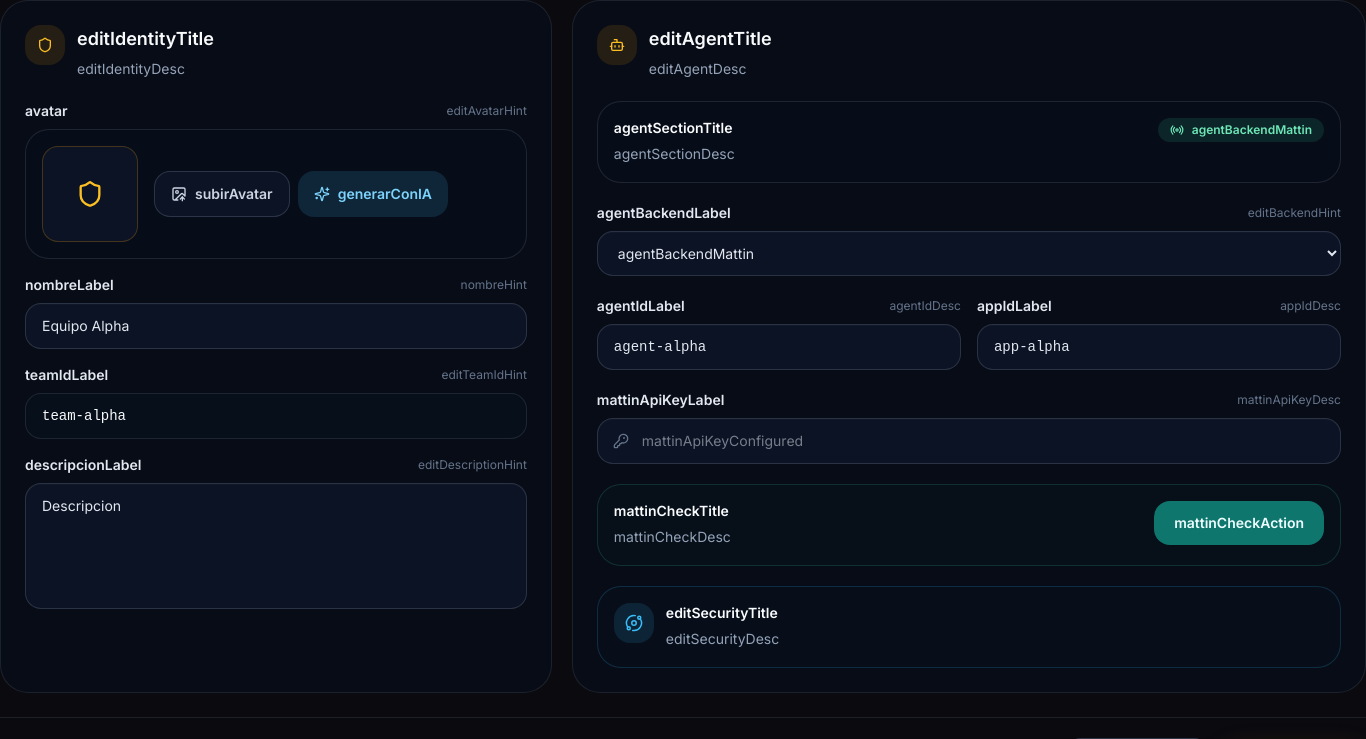
team forms UI › owner edit form can run the mattin connectivity check like admin edit
The image size is (1366, 739).
Click the button "mattinCheckAction" at [1239, 523], box x1=1154 y1=501 x2=1324 y2=545
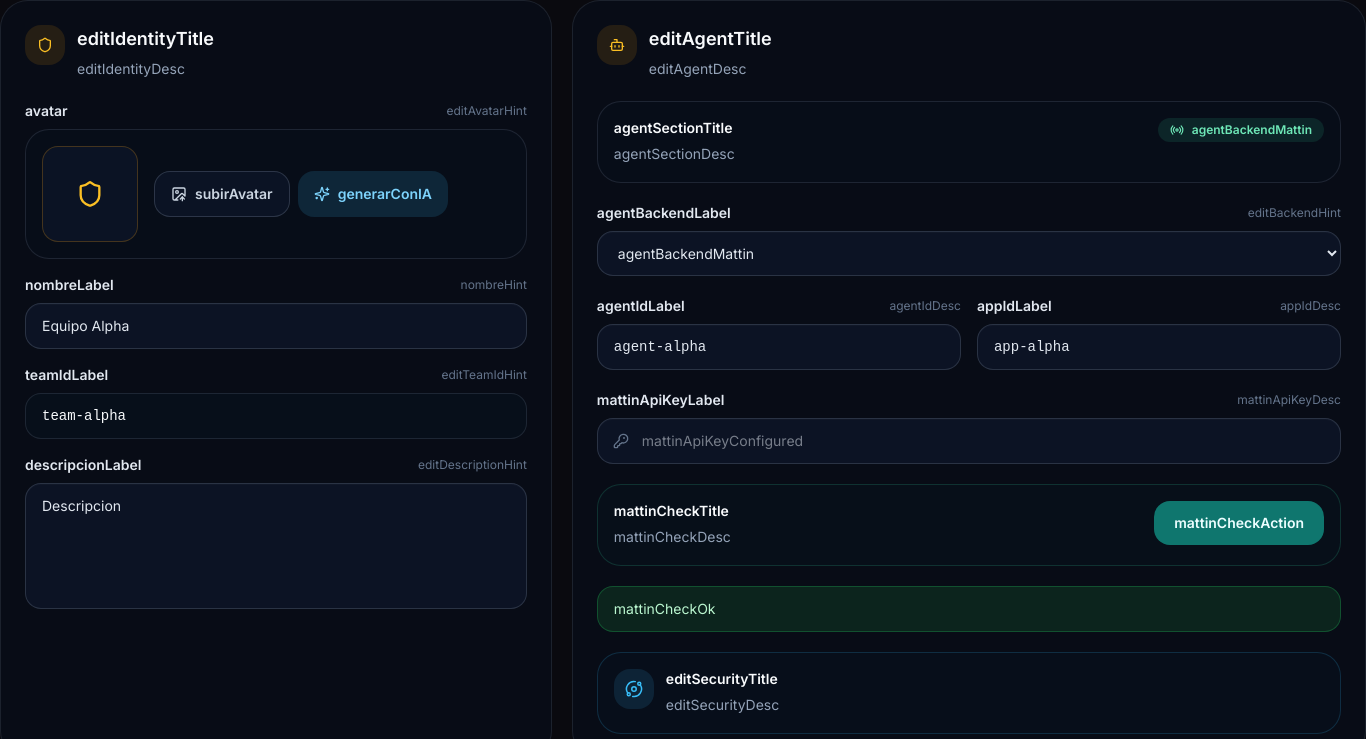
Expected: the text "mattinCheckOk" is shown, x1=597 y1=586 x2=1341 y2=632
